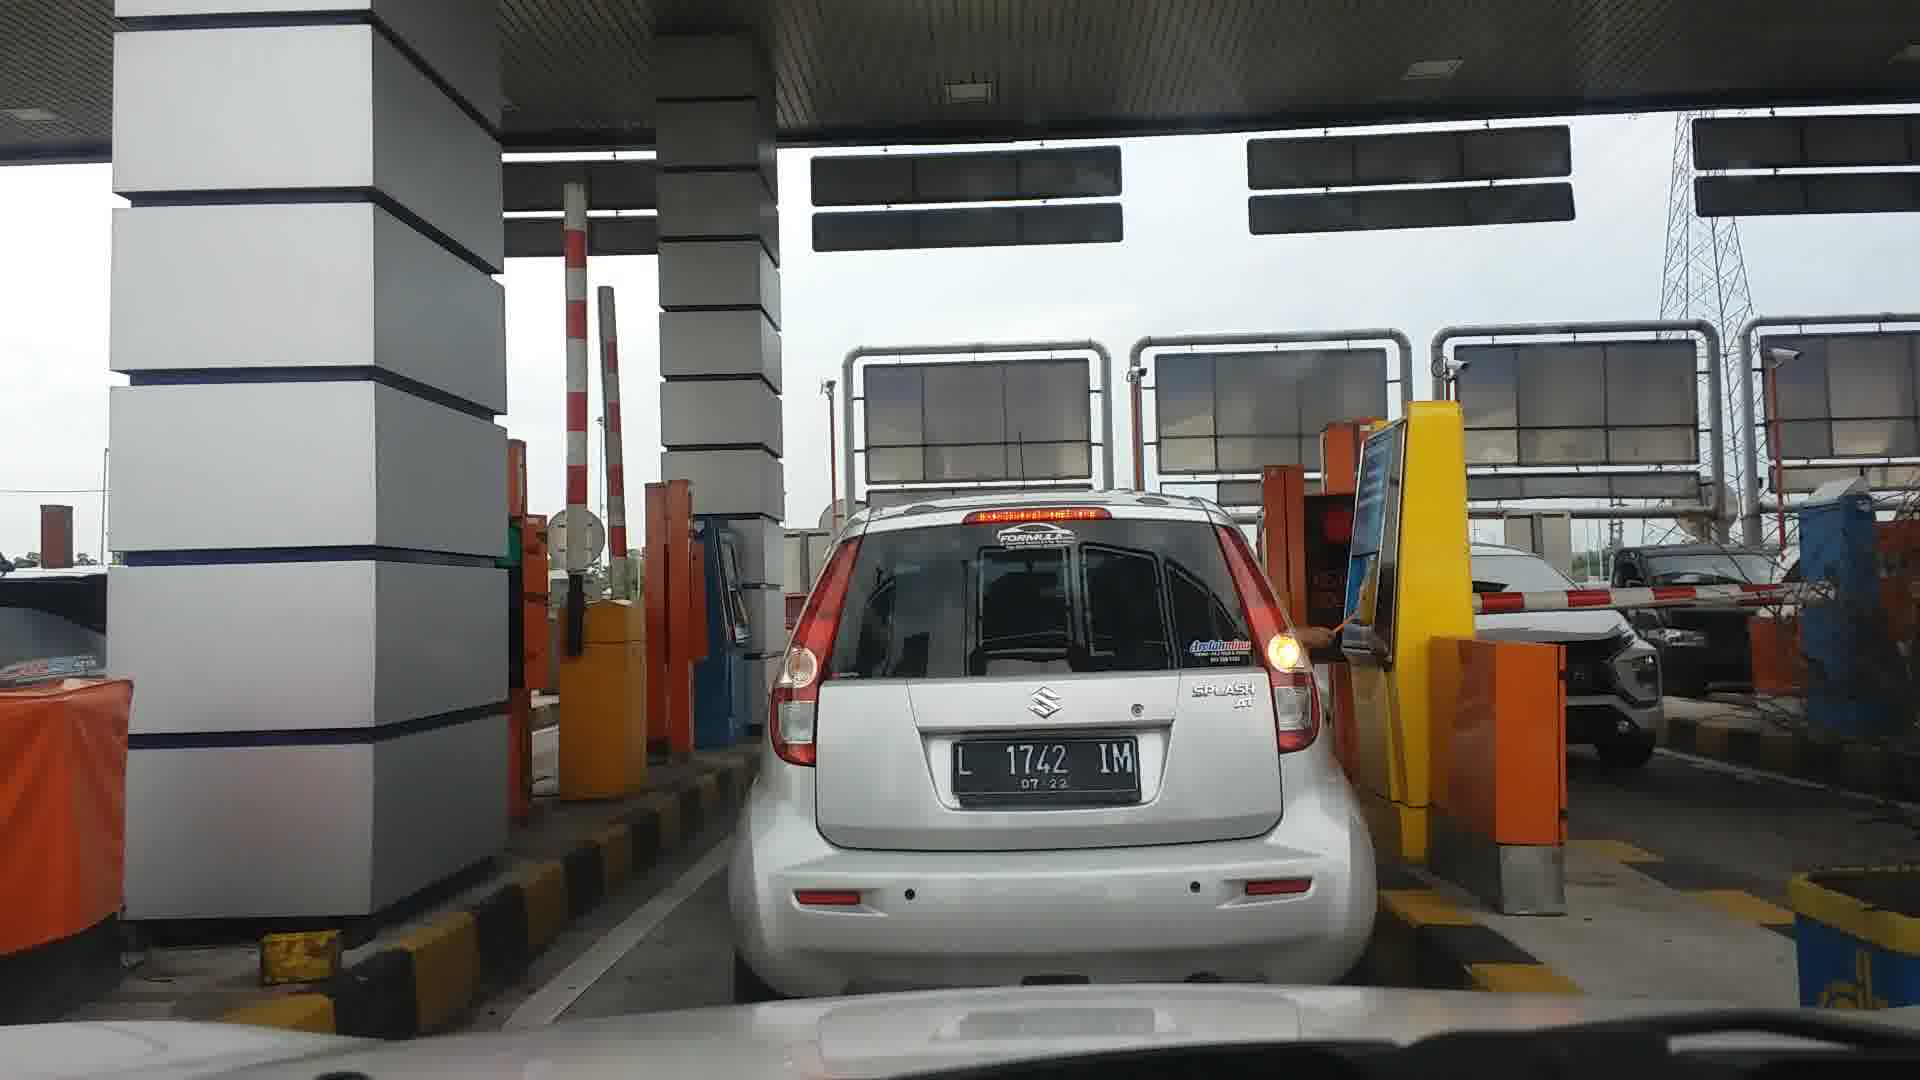plate_positive: (951, 736, 1145, 807)
